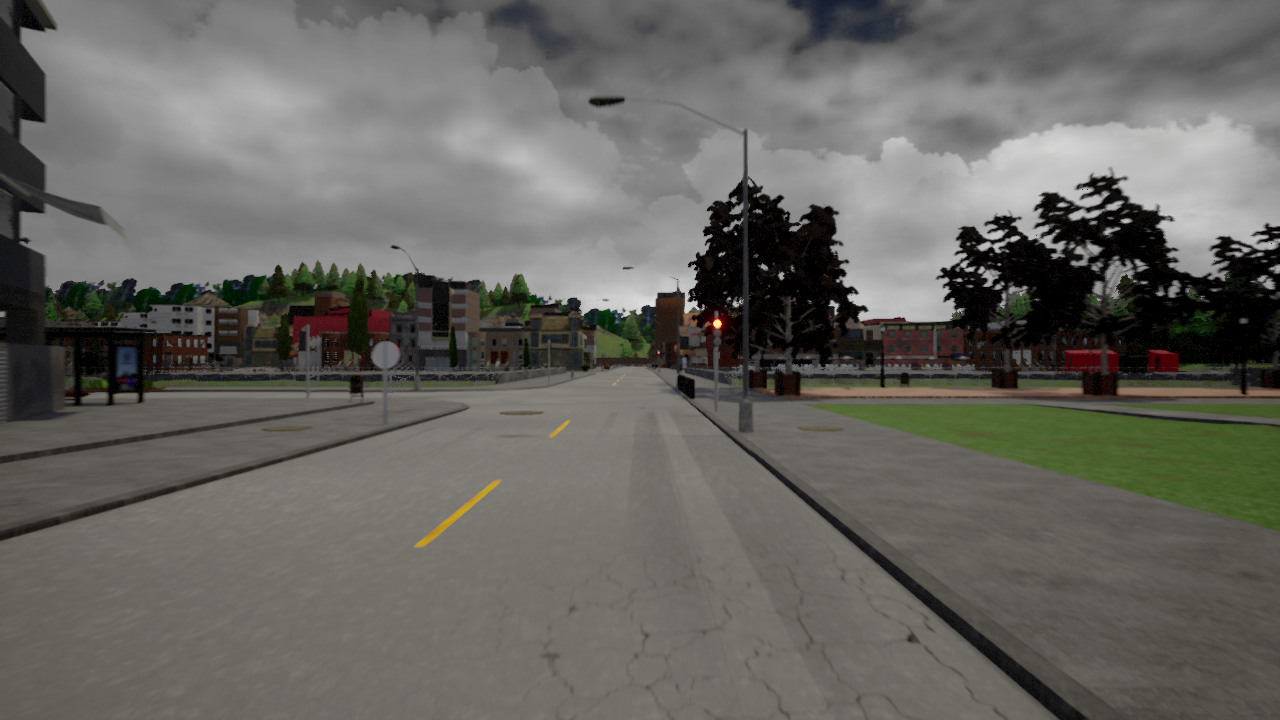red: (711, 317, 724, 349)
